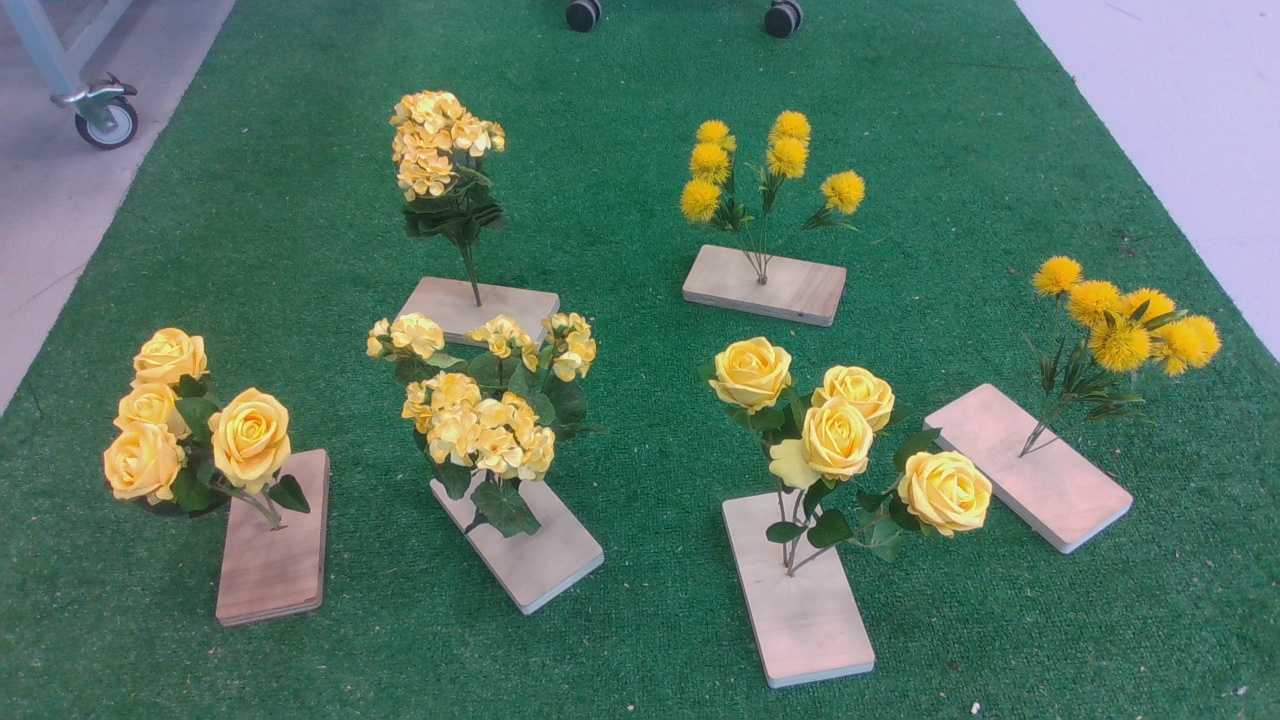dandelion: (1030, 253, 1235, 438), (671, 106, 877, 250)
geranium: (365, 309, 614, 541), (387, 85, 519, 257)
rose: (701, 328, 1001, 567), (91, 328, 320, 527)
